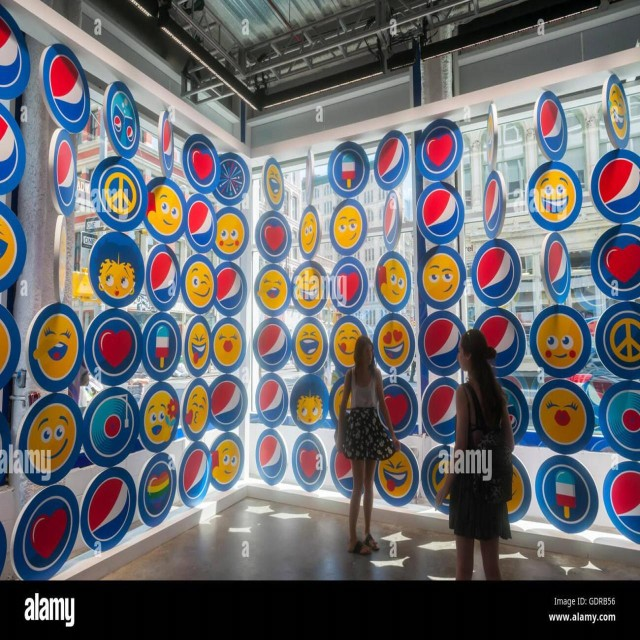pepsi: (90, 477, 134, 541), (49, 54, 89, 120), (598, 155, 640, 215), (476, 243, 516, 300), (421, 188, 457, 236), (149, 249, 178, 307), (185, 198, 218, 248), (375, 136, 409, 184), (215, 378, 247, 429), (542, 93, 566, 152), (257, 375, 283, 421), (259, 322, 287, 363), (259, 430, 282, 478)
